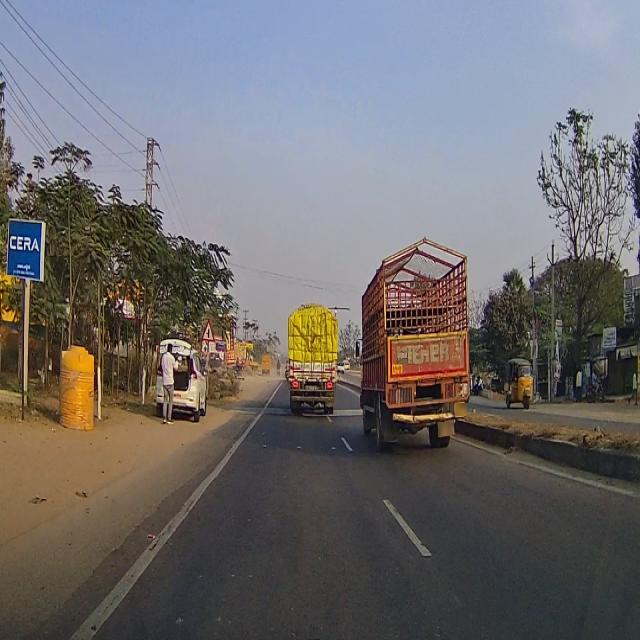side-road-left: (202, 318, 214, 340)
